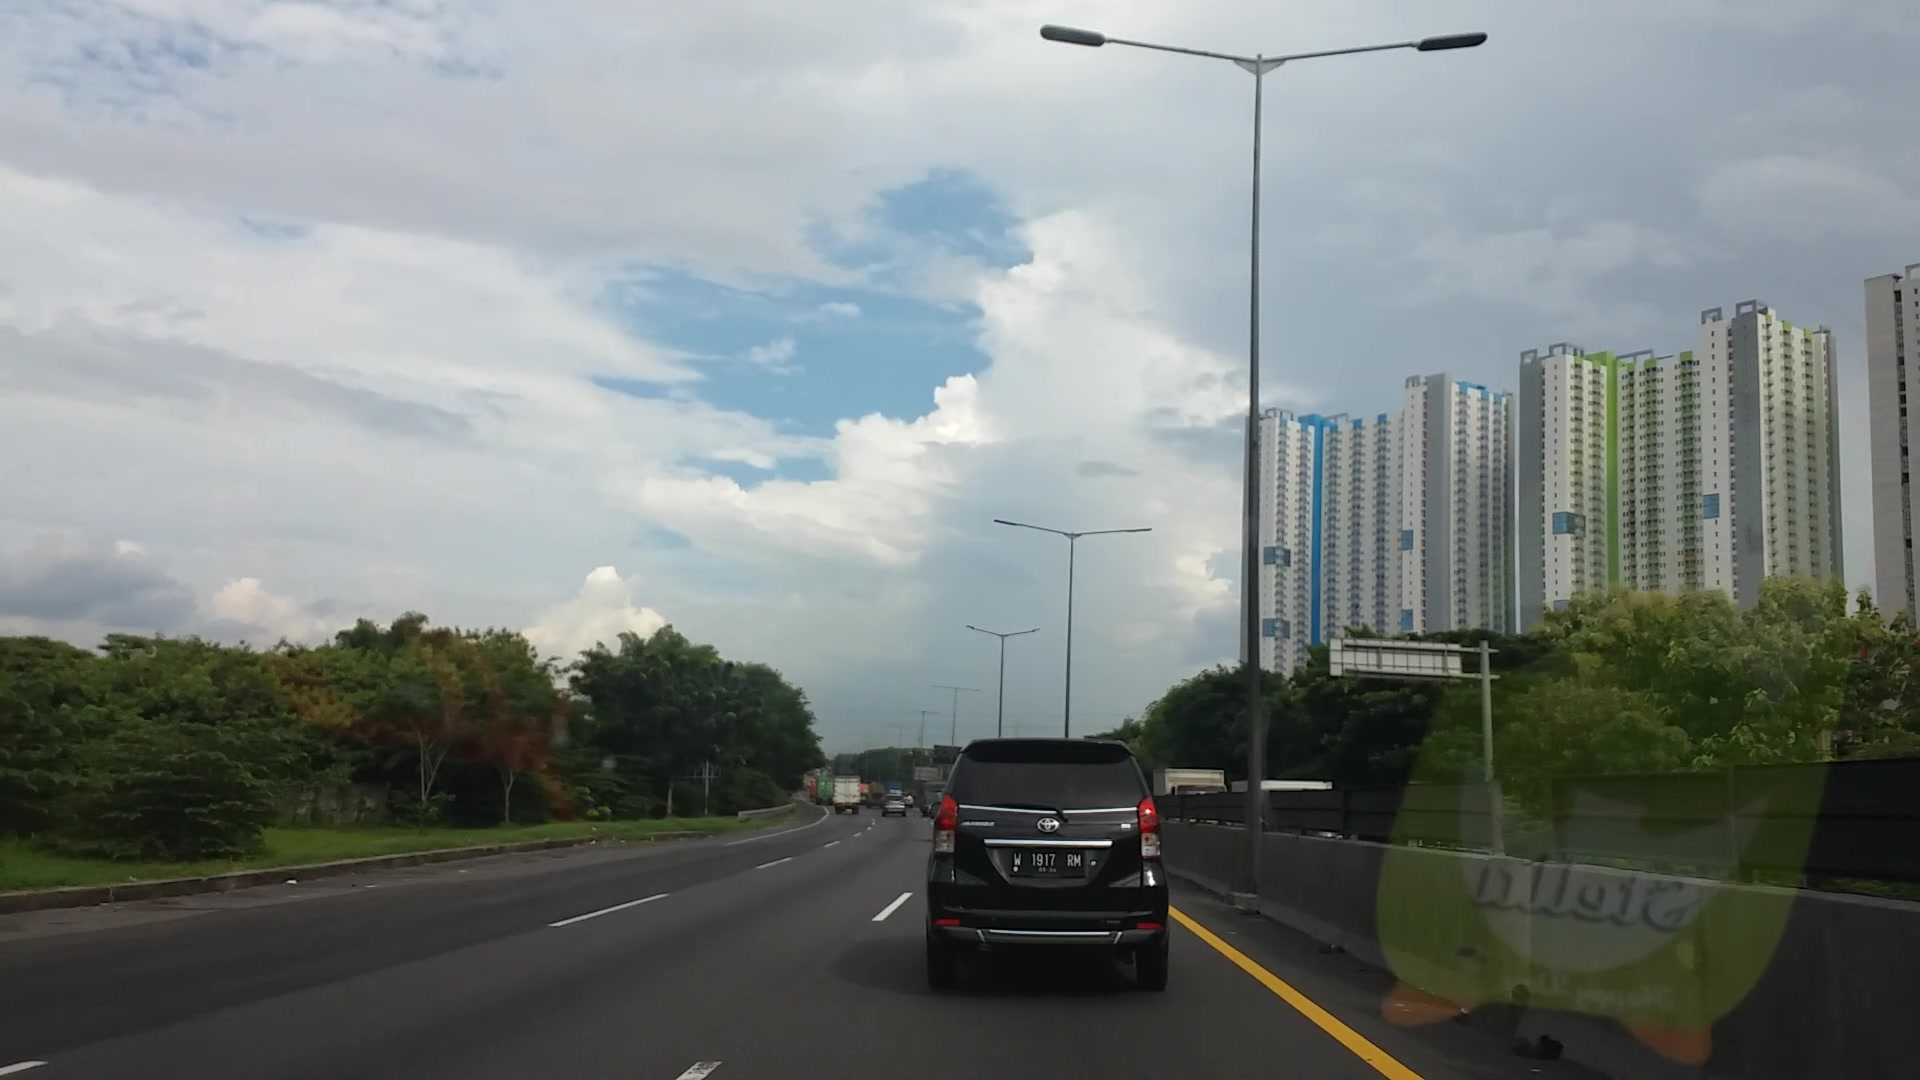plate_positive: (1009, 849, 1083, 876)
